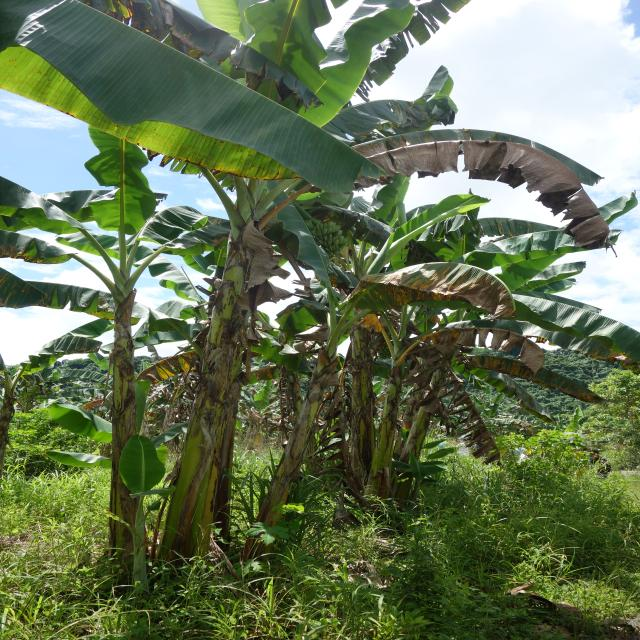Banana-plant: (153, 172, 311, 575), (90, 264, 148, 587)
